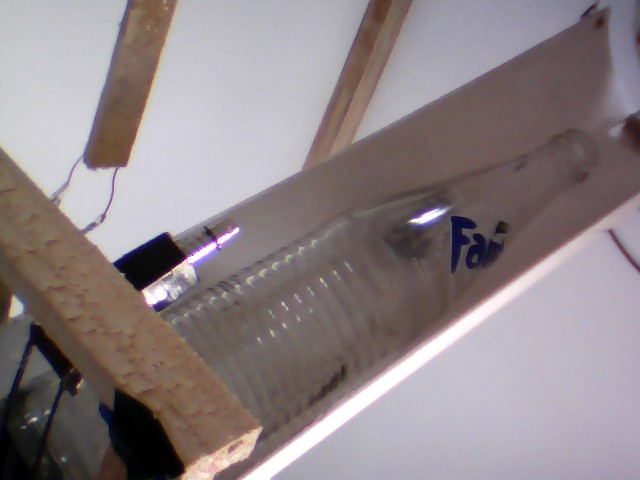vidrio: (194, 124, 608, 442)
